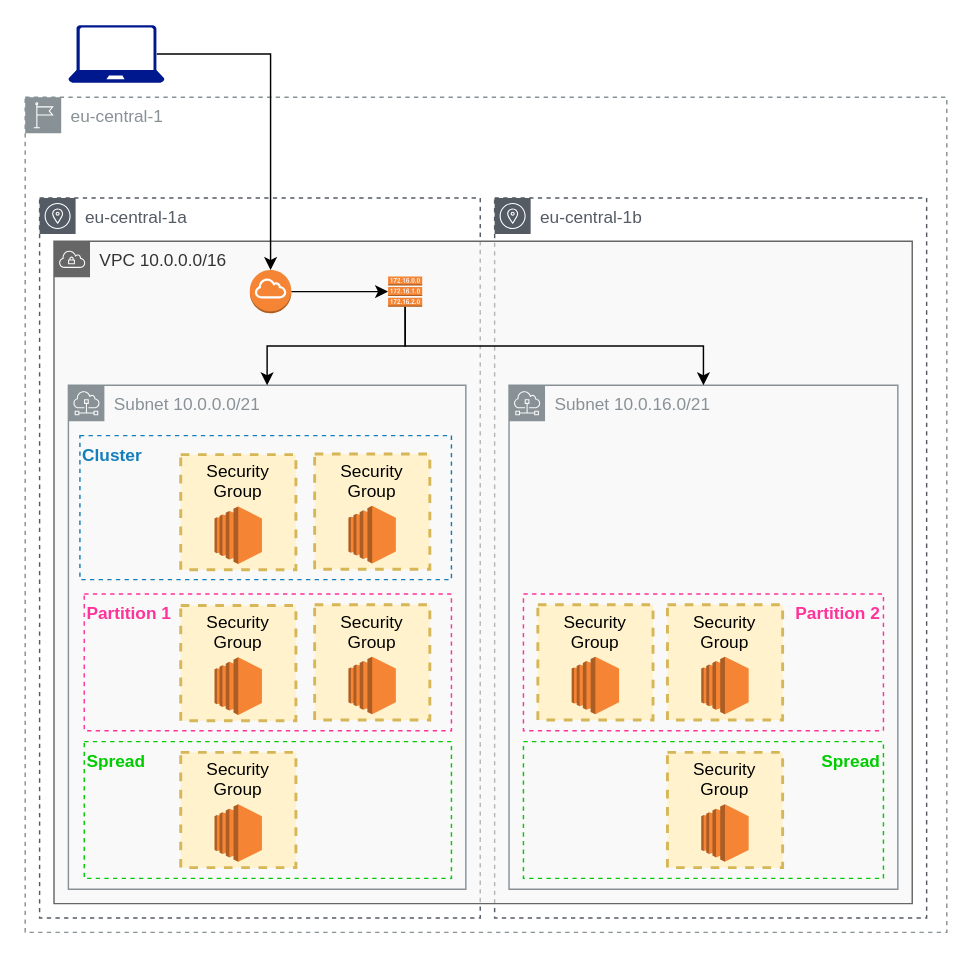
This 972x958 diagram has some shape labels left out. The shapes that lost their labels are listed below. From the top down, each one's centre as x and y in pixels, then its label:
(x=269, y=291): Internet gateway
(x=404, y=291): Route table public
